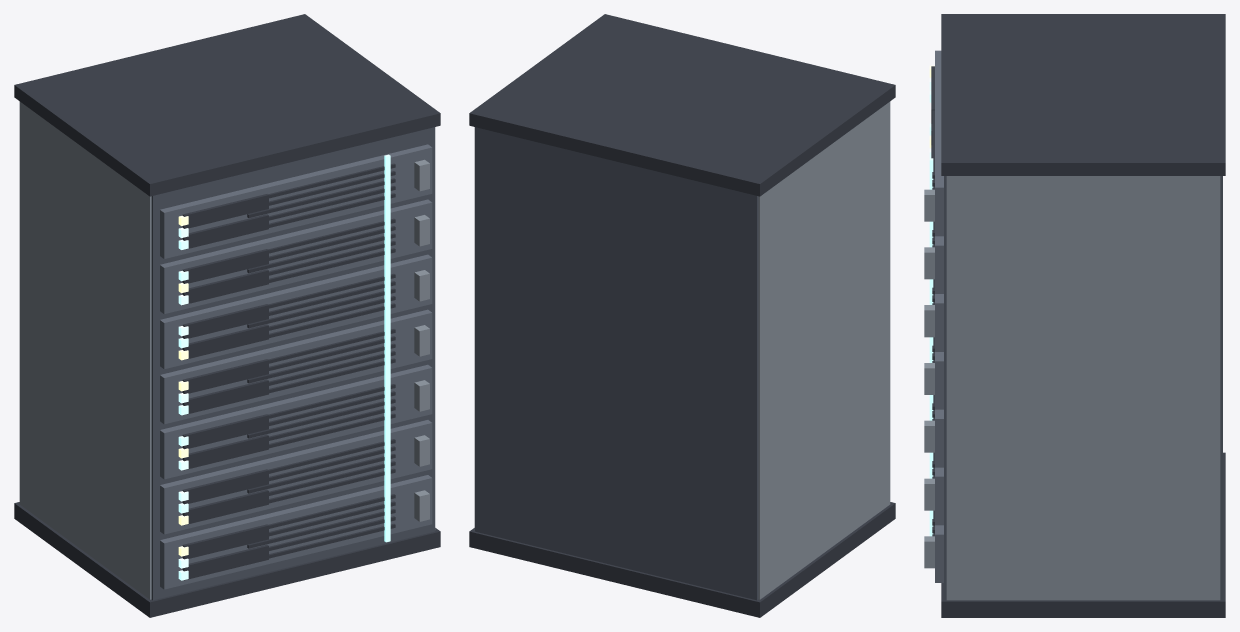
The model's file is server.glb.
The picture shows the model from 3 angles, left to right: view 1: azimuth 30°, elevation 25°; view 2: azimuth 150°, elevation 25°; view 3: azimuth 270°, elevation 25°; orthographic projection. The views are drawn at different scales.
Visible parts, largest first — view 1: rail_1, cap_3, chassis_0, bezel_9, bezel_57, bezel_69, bezel_33, bezel_45, bezel_81, bezel_21, cap_4, seam_93 (+49 smaller); view 2: chassis_0, rail_1, cap_3, cap_4; view 3: rail_2, cap_3, cap_4, chassis_0, bezel_9, seam_93, bezel_57, bezel_69, bezel_21, bezel_33, bezel_45, bezel_81.
Part boxes in pixels (x1,y1,x2,y2): rail_1: (19, 101, 151, 599); cap_3: (14, 14, 440, 196); chassis_0: (151, 127, 434, 600); bezel_9: (160, 144, 432, 258); bezel_57: (160, 364, 432, 479); bezel_69: (160, 420, 432, 534); bezel_33: (160, 254, 432, 369); bezel_45: (160, 309, 432, 424); bezel_81: (160, 475, 432, 589); bezel_21: (160, 199, 432, 314); cap_4: (14, 502, 440, 617); seam_93: (384, 154, 390, 542); chassis_0: (475, 127, 758, 600); rail_1: (758, 101, 890, 599); cap_3: (469, 14, 895, 196); cap_4: (469, 502, 895, 617); rail_2: (946, 176, 1220, 600); cap_3: (941, 14, 1225, 175); cap_4: (941, 452, 1225, 617); chassis_0: (944, 176, 1222, 599); bezel_9: (935, 50, 943, 236); seam_93: (929, 158, 933, 536); bezel_57: (935, 409, 943, 467); bezel_69: (935, 467, 943, 525); bezel_21: (935, 236, 943, 293); bezel_33: (935, 294, 943, 351); bezel_45: (935, 352, 943, 409); bezel_81: (935, 525, 943, 582).
Size of the model in its own units: 1.96 by 2.85 by 1.68.
